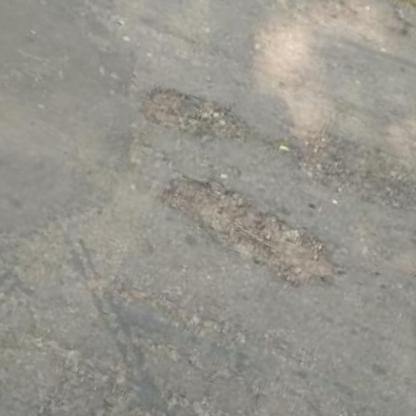pothole: (145, 157, 362, 302), (280, 114, 416, 224), (136, 71, 256, 159)
